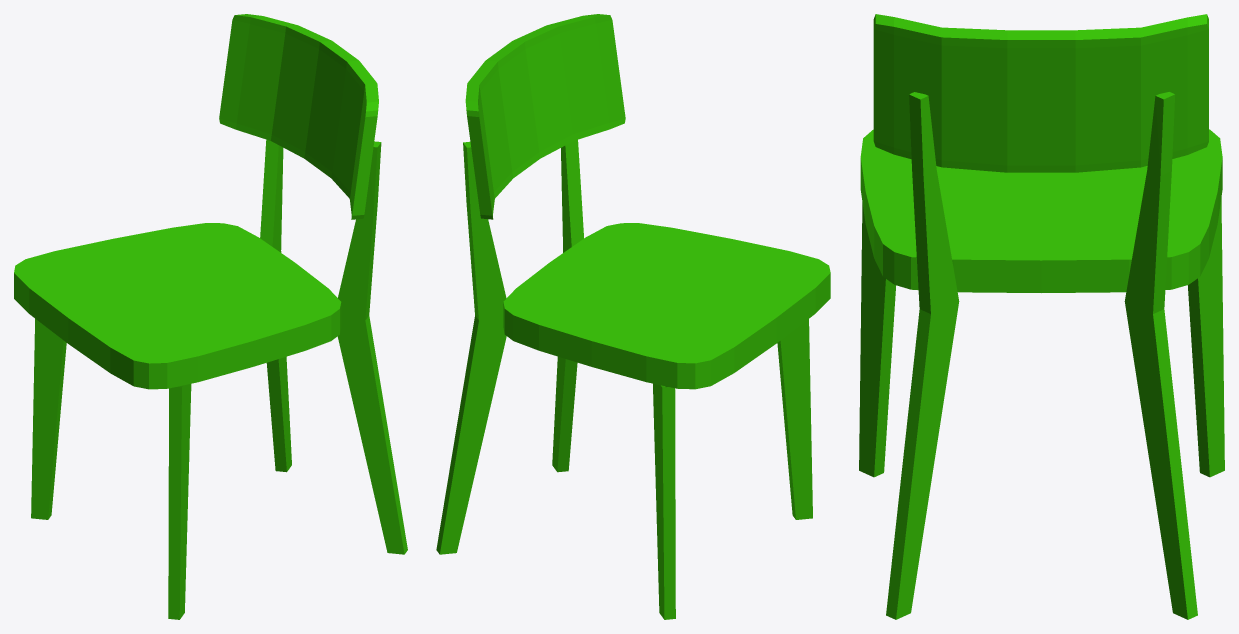
File: caighe.obj
3 renders of one model, left to right at view 1: azimuth 30°, elevation 25°; view 2: azimuth 150°, elevation 25°; view 3: azimuth 270°, elevation 25°, orthographic. The views are drawn at different scales.
Visible parts, largest first — view 1: caighe; view 2: caighe; view 3: caighe.
Boxes of the visible parts, x1,y1,x2,y2 form: caighe: (14,14,407,619); caighe: (436,14,830,619); caighe: (859,14,1224,619).
Bounding box in the file's own units: 3.41 × 5.32 × 3.05.
